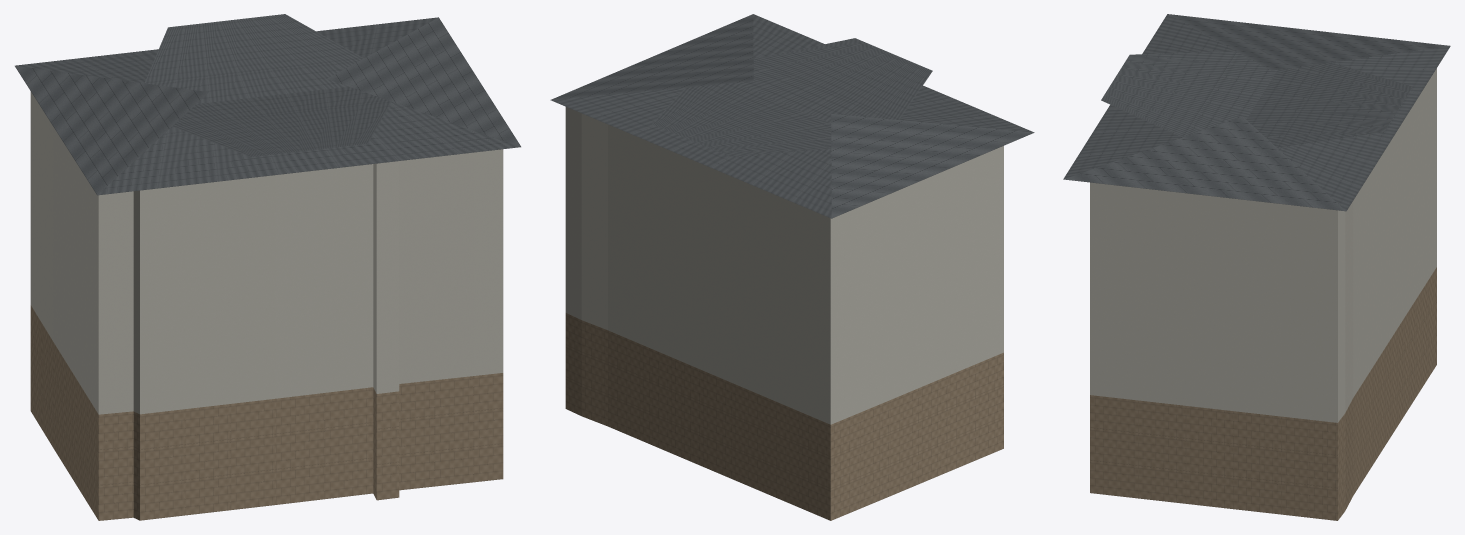
Rendered from bld_c9_41_507.gltf.
3 views of the same model, side by side, from view 1: azimuth 30°, elevation 25°; view 2: azimuth 150°, elevation 25°; view 3: azimuth 270°, elevation 25° (orthographic). The views are drawn at different scales.
Parts seen in each view (by area): view 1: bld_c9_41_507; view 2: bld_c9_41_507; view 3: bld_c9_41_507.
Part boxes in pixels (box(x1,y1,x2,y2)): bld_c9_41_507: box(15, 14, 520, 520); bld_c9_41_507: box(550, 14, 1034, 520); bld_c9_41_507: box(1063, 14, 1450, 520).
Size of the model in its own units: 22.03 by 17.4 by 18.28.
3 materials, 3 textured.
